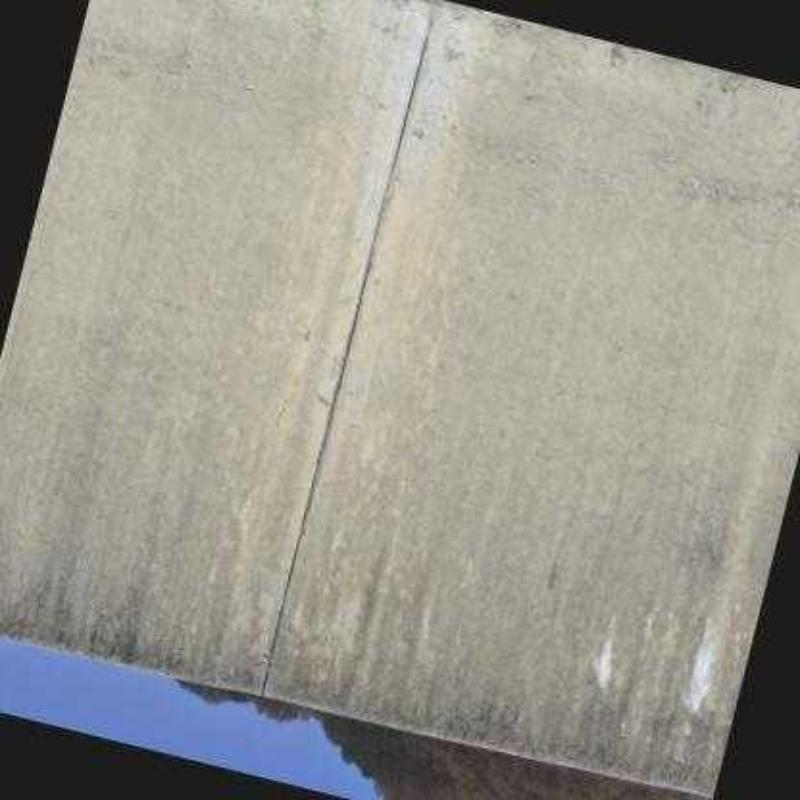crack: (256, 15, 436, 697)
